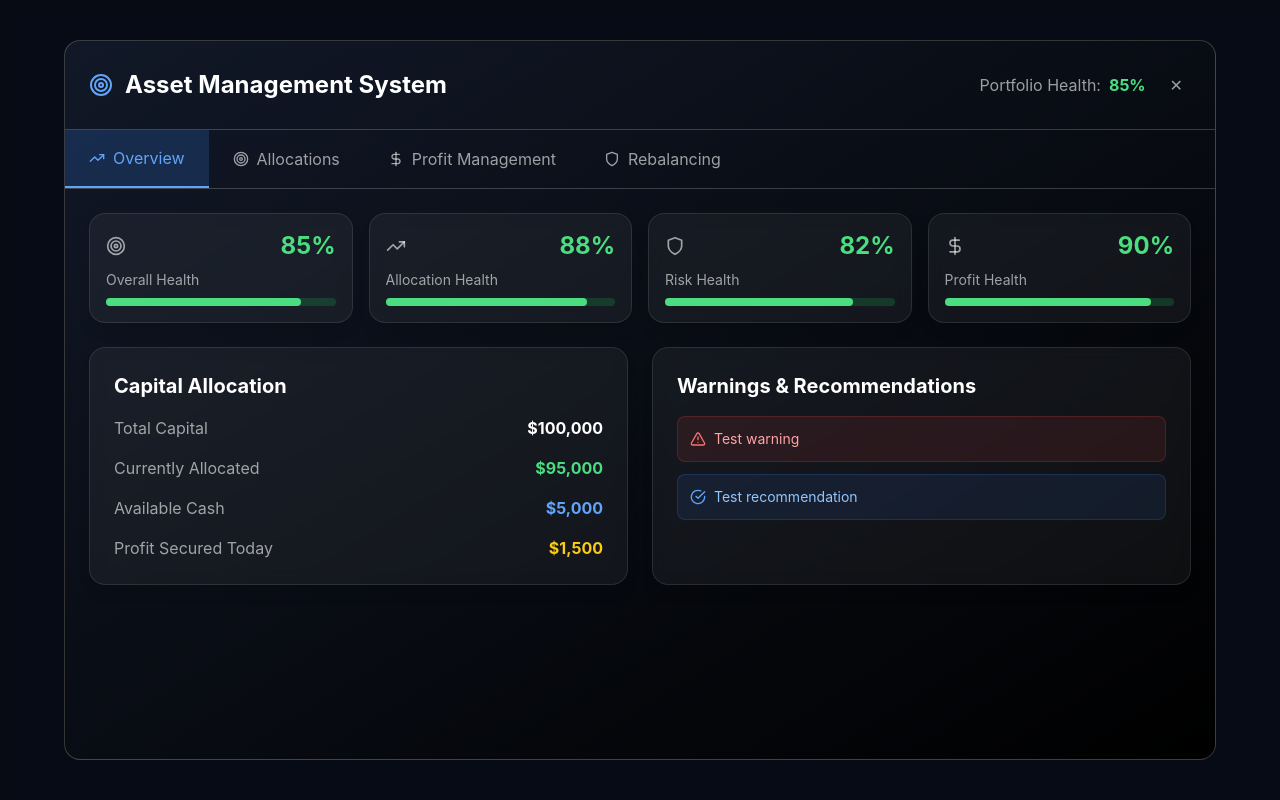
Test: AssetManagerPanel › displays profit management tab content
Step 1. Click the button "Profit Management" → (472, 159), box [364,130,580,188]
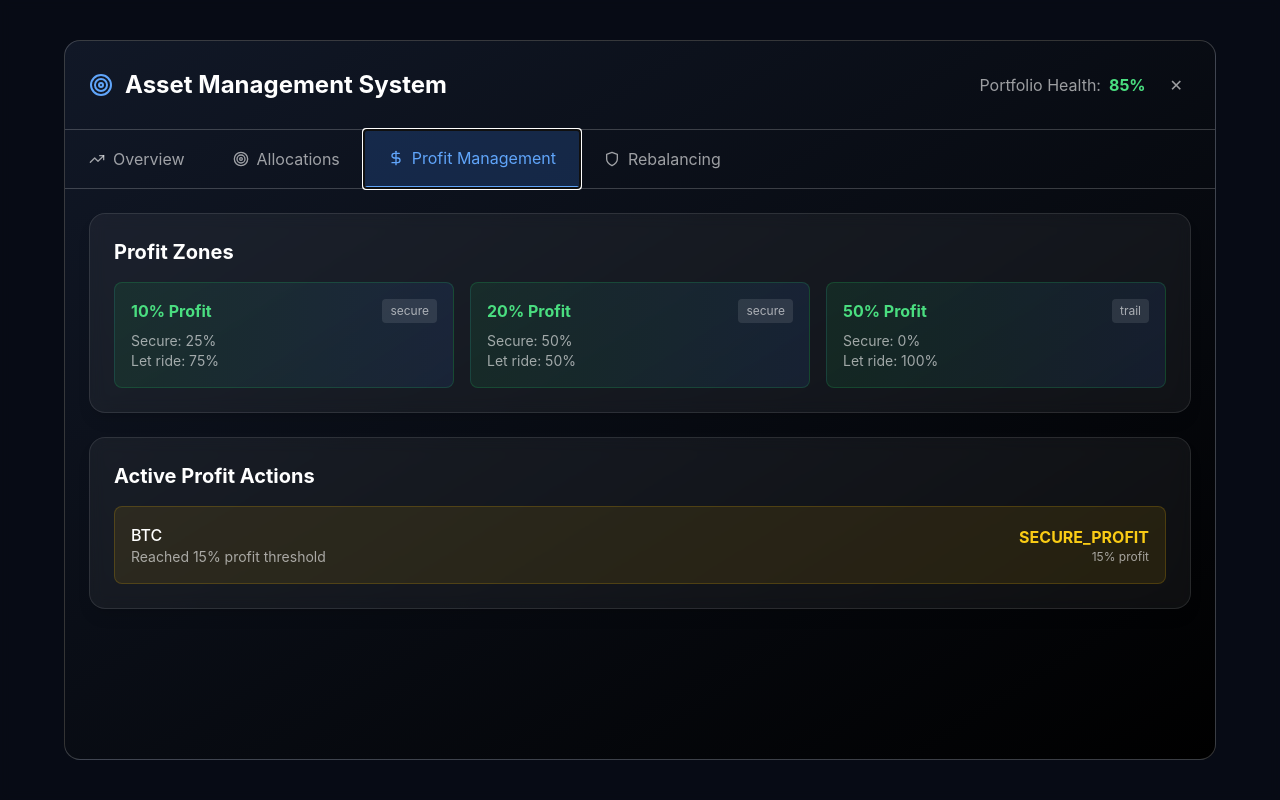
Expected: the heading "Profit Zones" is shown, [114,240,234,264]
Expected: the heading "Active Profit Actions" is shown, [114,464,315,488]
Expected: the text "10% Profit" is shown, [131,299,212,323]
